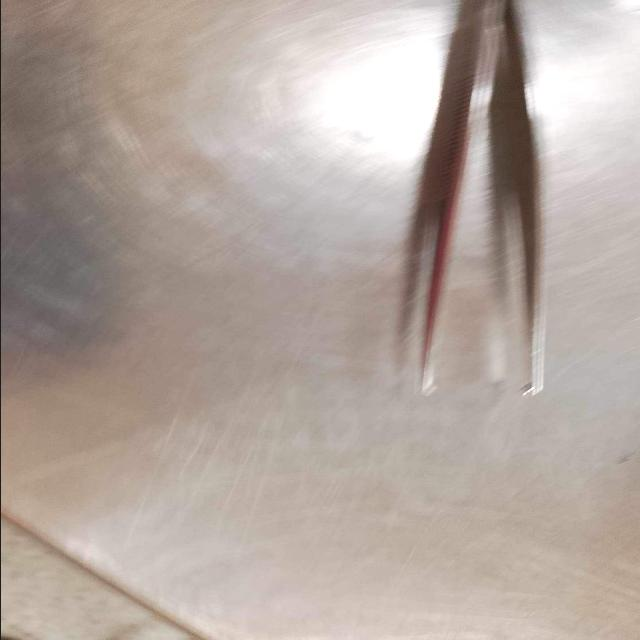General: (4, 3, 636, 638)
Sharps: (416, 1, 506, 396)
